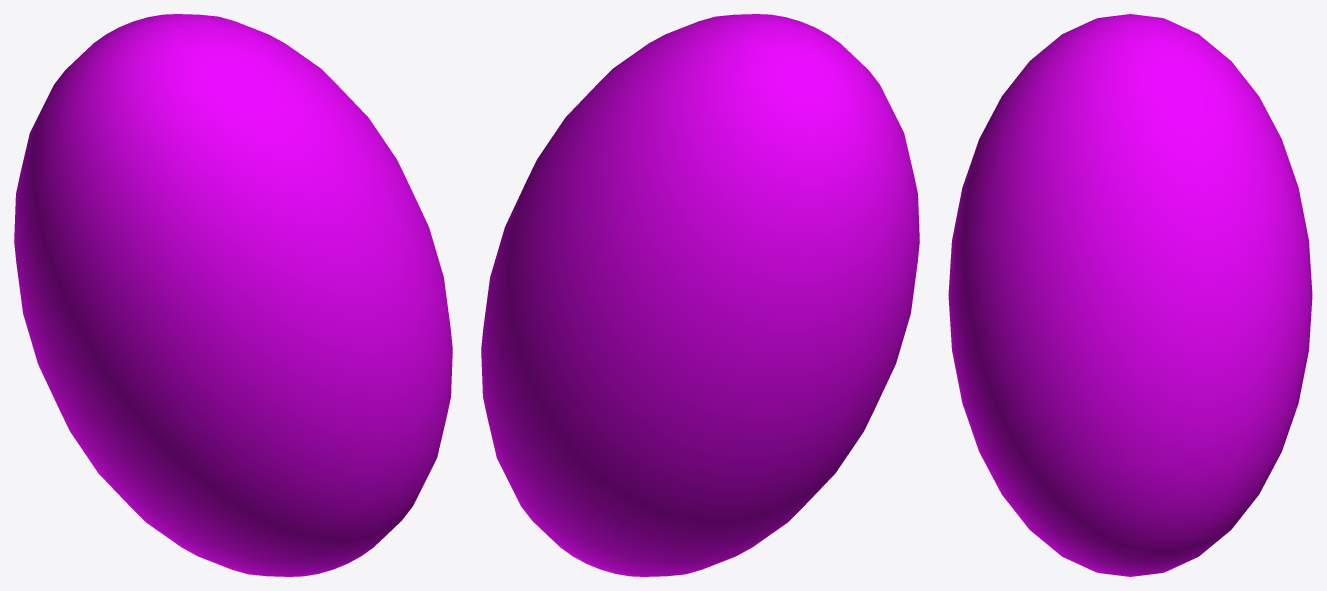
File: Huevo Chocolate.fbx
3 renders of one model, left to right at view 1: azimuth 30°, elevation 25°; view 2: azimuth 150°, elevation 25°; view 3: azimuth 270°, elevation 25°, orthographic. The views are drawn at different scales.
Parts seen in each view (by area): view 1: Huevo; view 2: Huevo; view 3: Huevo.
Boxes of the visible parts, <box> form: Huevo: <box>14,14,452,576</box>; Huevo: <box>481,14,919,576</box>; Huevo: <box>948,14,1312,576</box>.
Bounding box in the file's own units: 1631 × 2269 × 1515.
